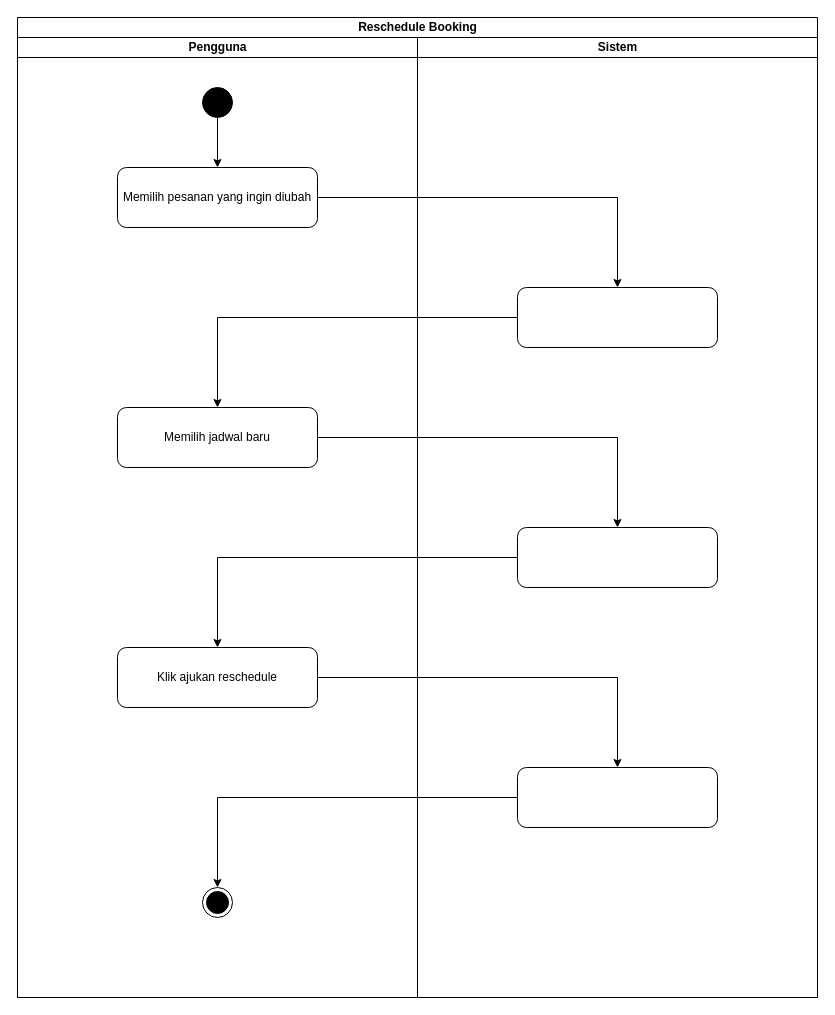
Some shapes in this 835 by 1015 pixel diagram are drawn without their labels. Each missing label, with the centre of its shape:
Memperbarui data jadwal pesanan: the point at 617,557
Mengecek ketersediaan jadwal baru: the point at 617,317
Mengirim notifikasi ke MUA: the point at 617,797
